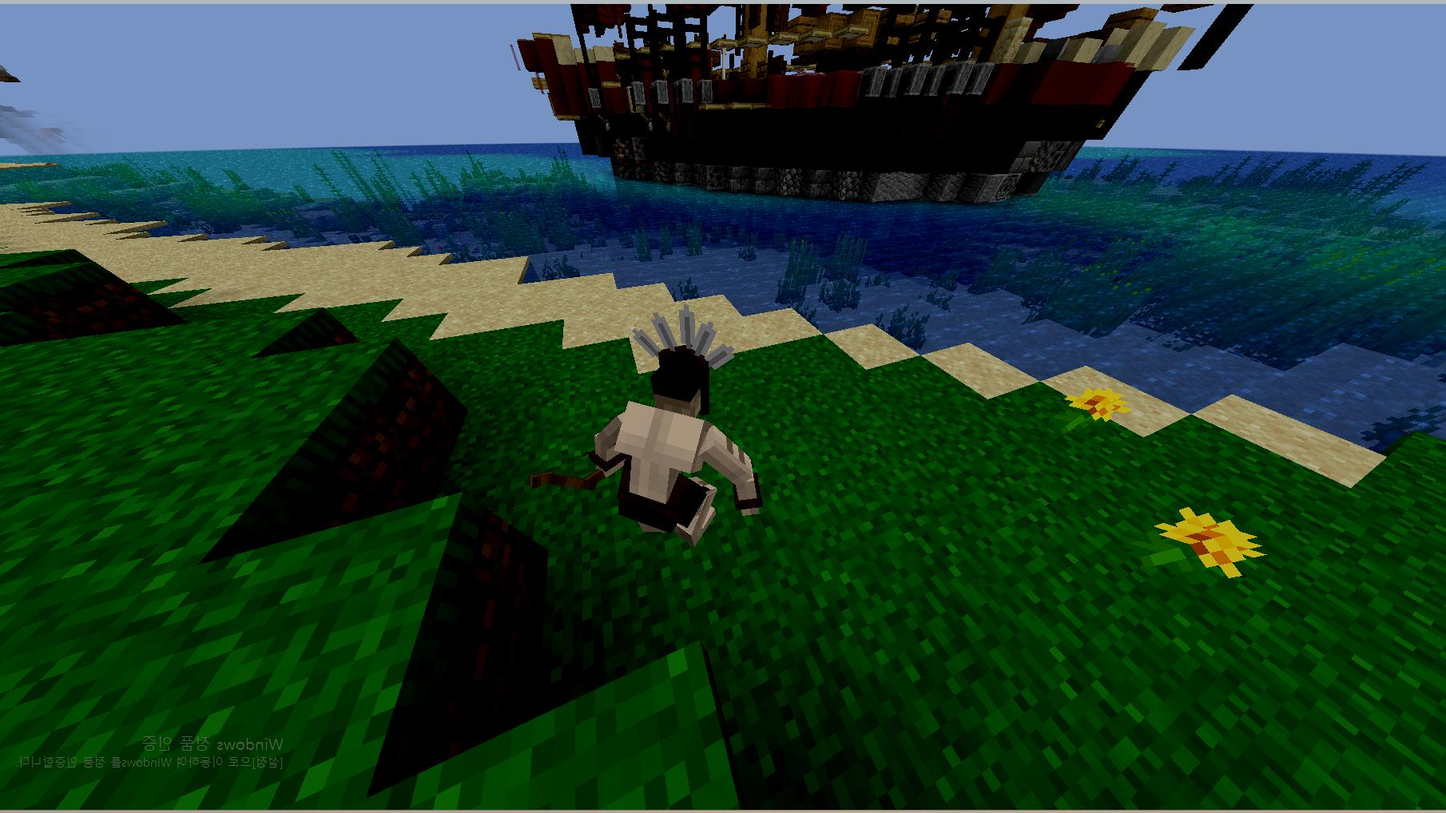bow_indian: (504, 313, 774, 588)
